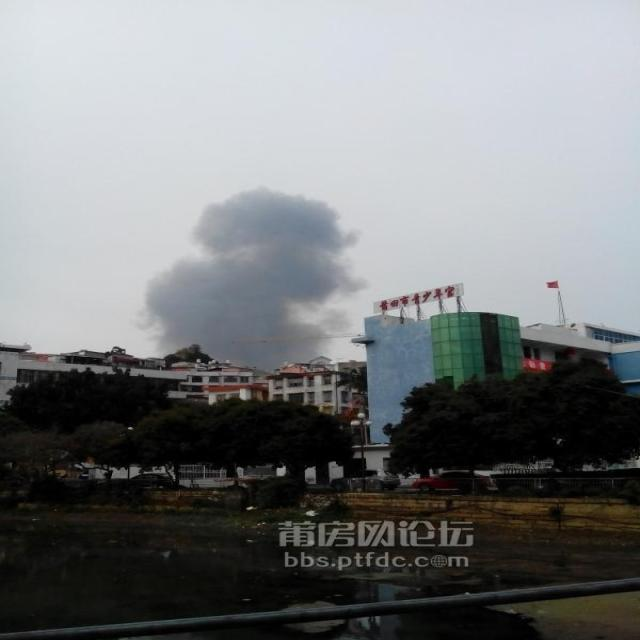Smoke: (142, 188, 372, 374)
